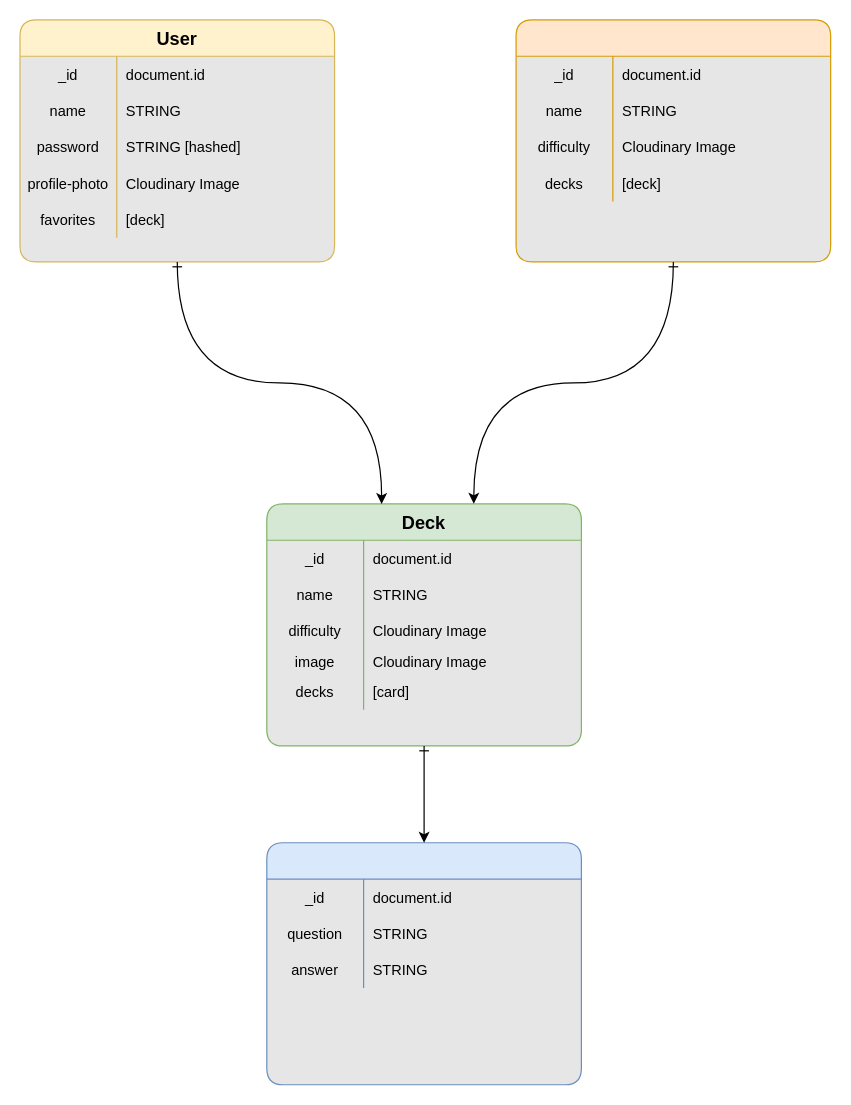
Image size: 851x1105. Some labels were removed from this diagram. The shapes that lost their labels are listed below. From the top down, each one's box as (x1, y1, x2, y2) in pixels, then its label:
(515, 19, 831, 262): Catagory
(266, 842, 581, 1085): Card
